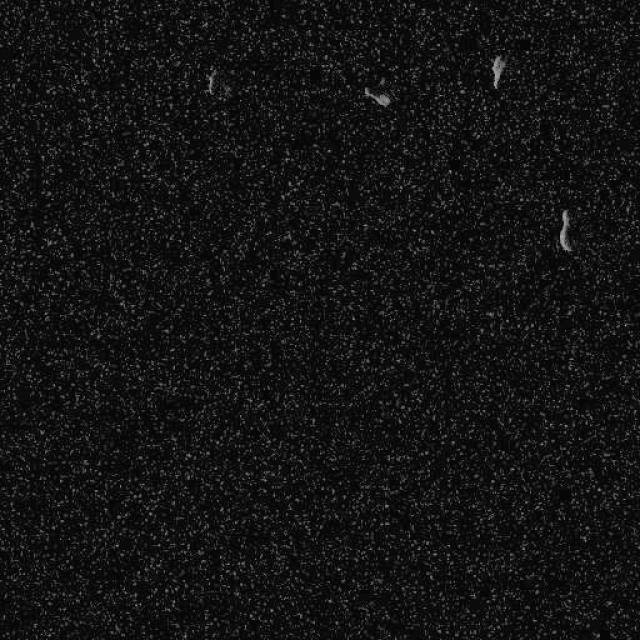D2: (558, 208, 574, 252), (362, 85, 392, 107), (490, 54, 506, 88), (204, 66, 218, 95)
